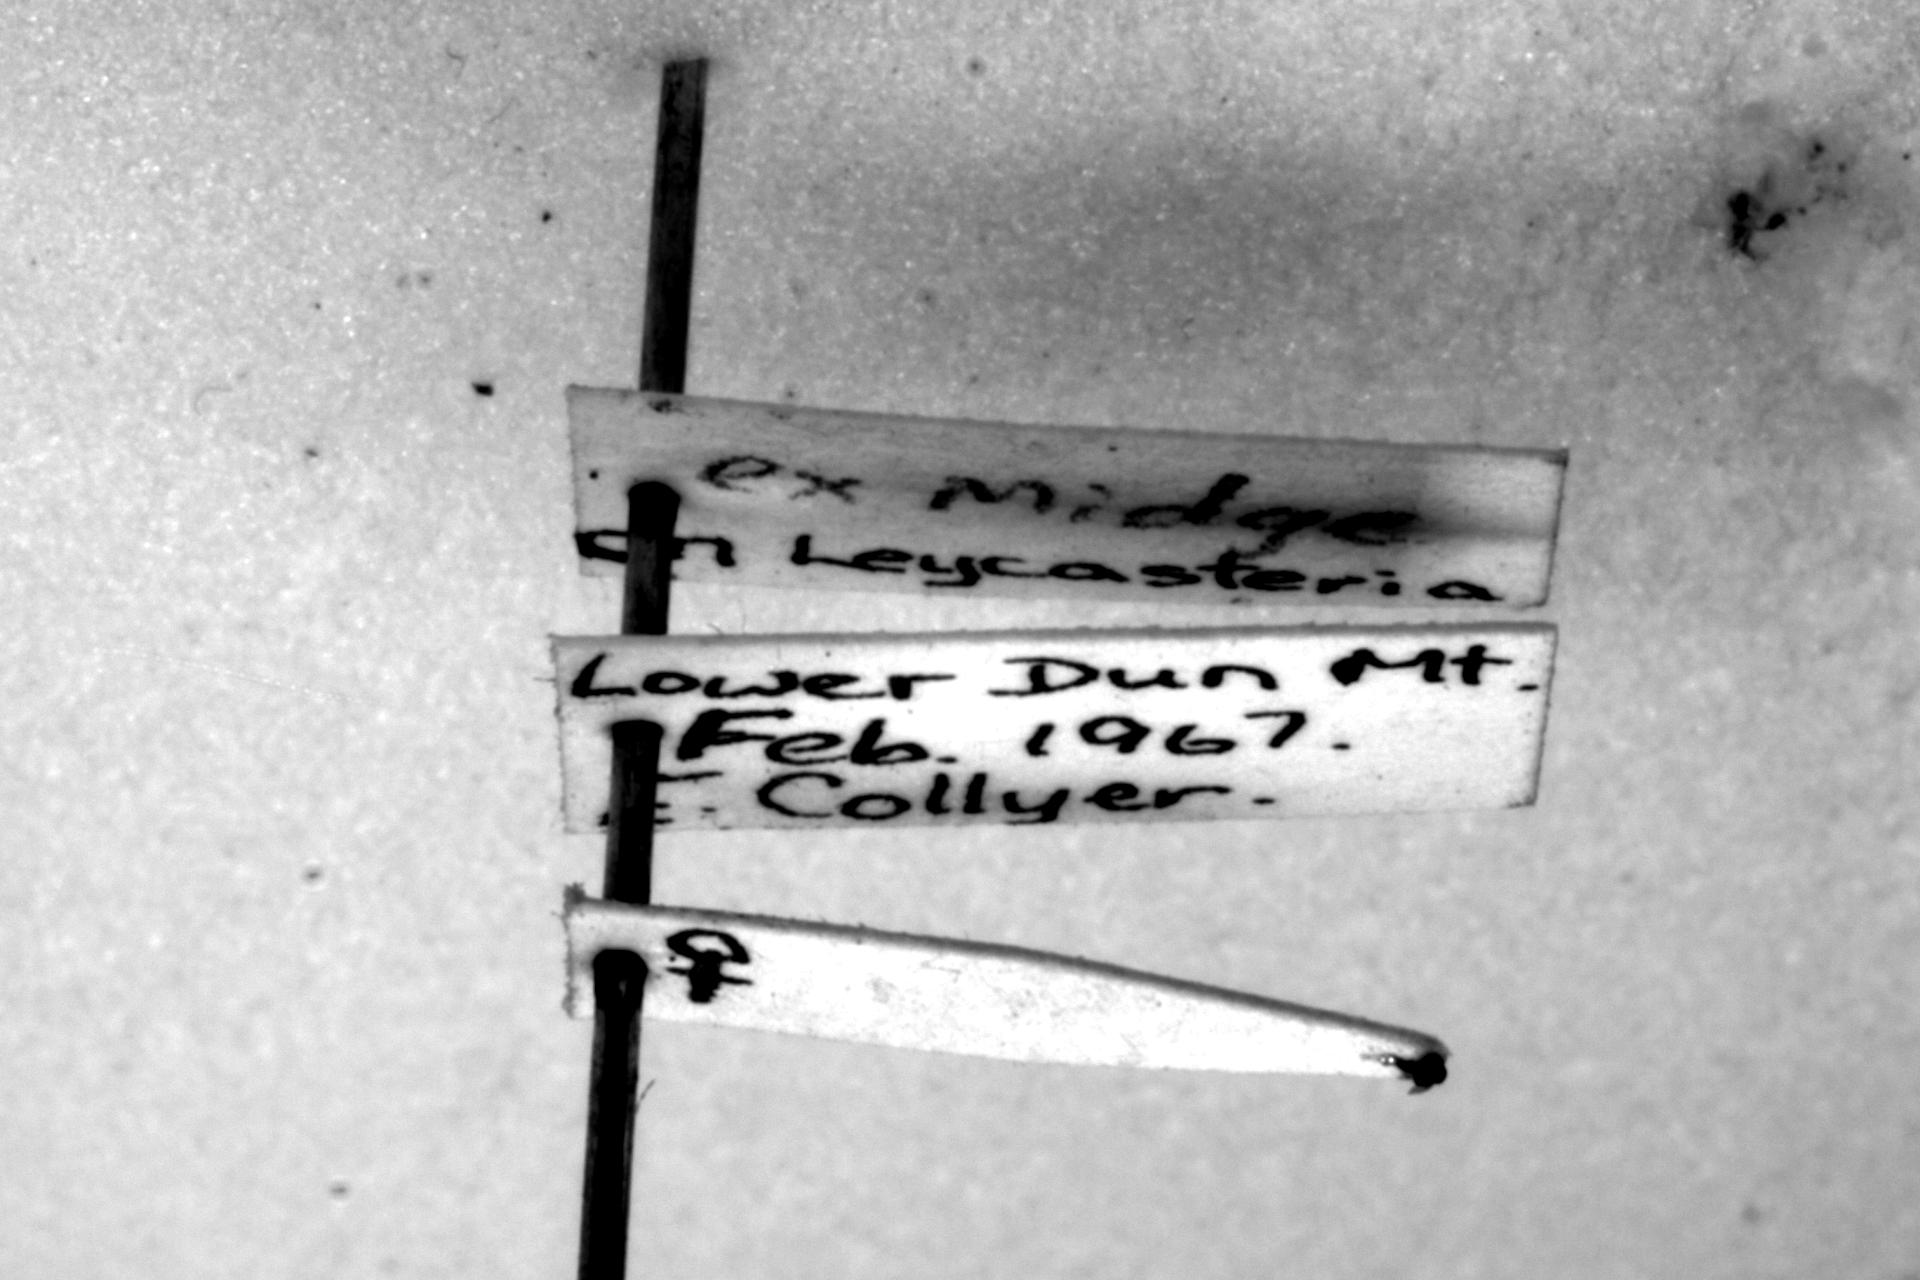hand_label: (566, 386, 1564, 608), (551, 622, 1556, 832)
